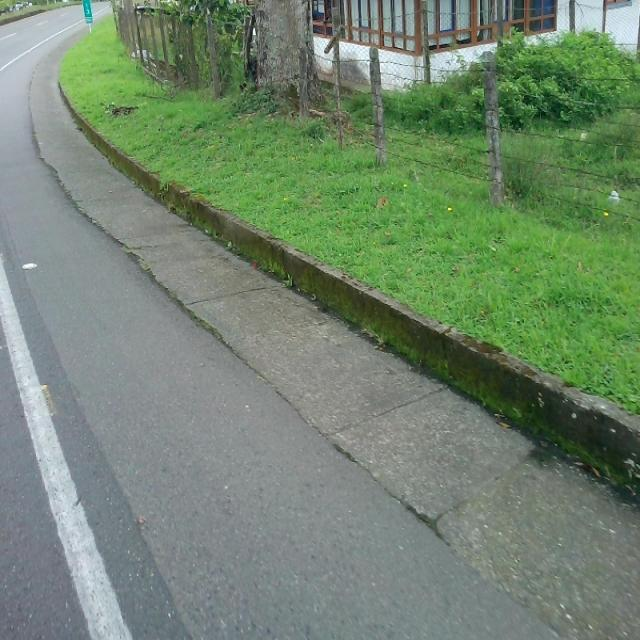DITCH: (27, 9, 639, 638), (1, 118, 636, 638), (2, 120, 638, 637)
